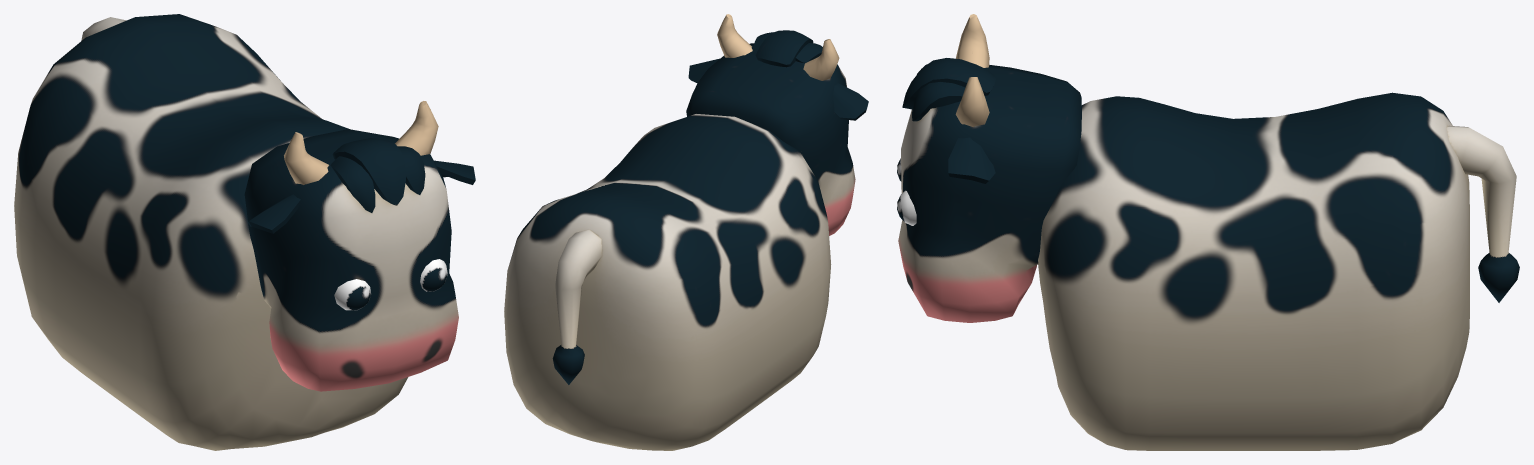
The model's file is Farm_Animal_Cow_02.fbx.
3 views of the same model, side by side, from view 1: azimuth 30°, elevation 25°; view 2: azimuth 150°, elevation 25°; view 3: azimuth 270°, elevation 25° (orthographic). The views are drawn at different scales.
Parts seen in each view (by area): view 1: Farm_Animal_Cow_02; view 2: Farm_Animal_Cow_02; view 3: Farm_Animal_Cow_02.
Boxes of the visible parts, bbox=[...] form: Farm_Animal_Cow_02: bbox=[14, 14, 475, 450]; Farm_Animal_Cow_02: bbox=[504, 14, 868, 450]; Farm_Animal_Cow_02: bbox=[897, 14, 1519, 450].
Size of the model in its own units: 93.97 by 124 by 191.
